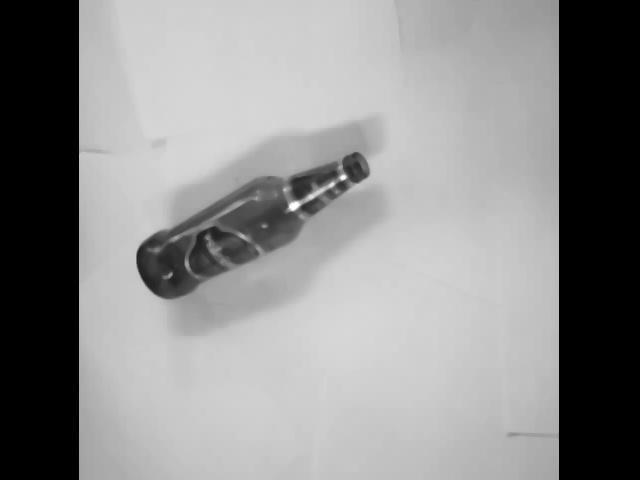Glass: (134, 150, 374, 299)
